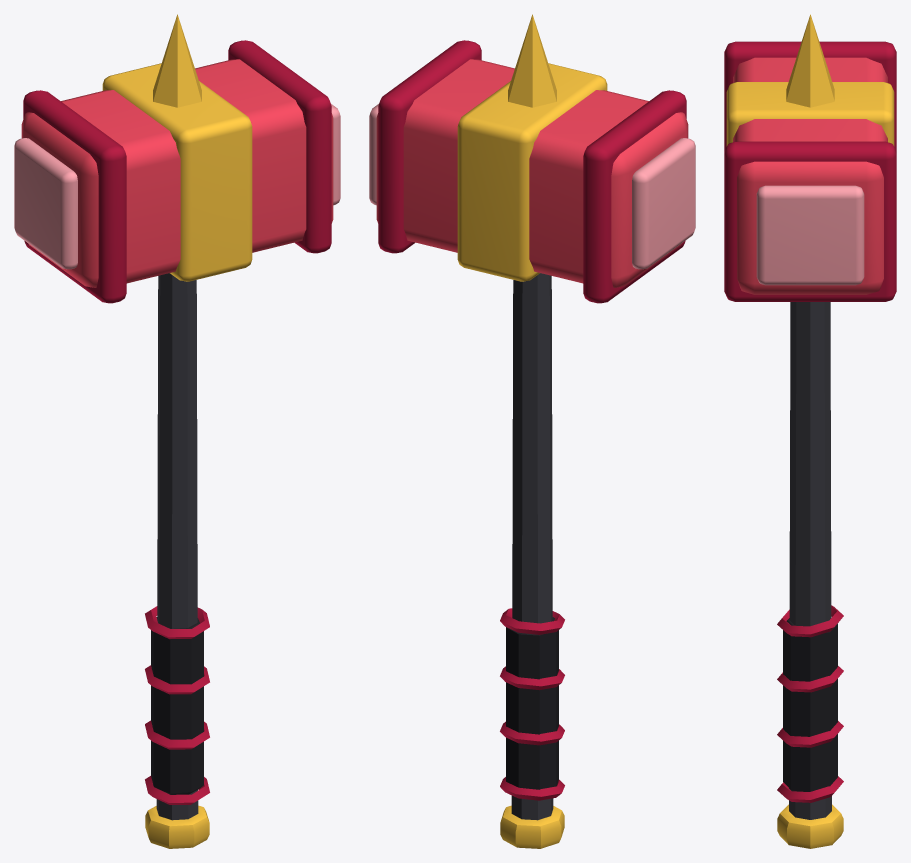
Rendered from RubyWarHammer.fbx.
The picture shows the model from 3 angles, left to right: view 1: azimuth 30°, elevation 25°; view 2: azimuth 150°, elevation 25°; view 3: azimuth 270°, elevation 25°; orthographic projection.
Parts seen in each view (by area): view 1: RubyWarHammer; view 2: RubyWarHammer; view 3: RubyWarHammer.
Part boxes in pixels (box(x1,y1,x2,y2)): RubyWarHammer: box(14, 14, 340, 848); RubyWarHammer: box(369, 14, 695, 848); RubyWarHammer: box(724, 14, 896, 848).
Bounding box in the file's own units: 1.5 × 4.23 × 0.8.
1 material, 1 textured.
